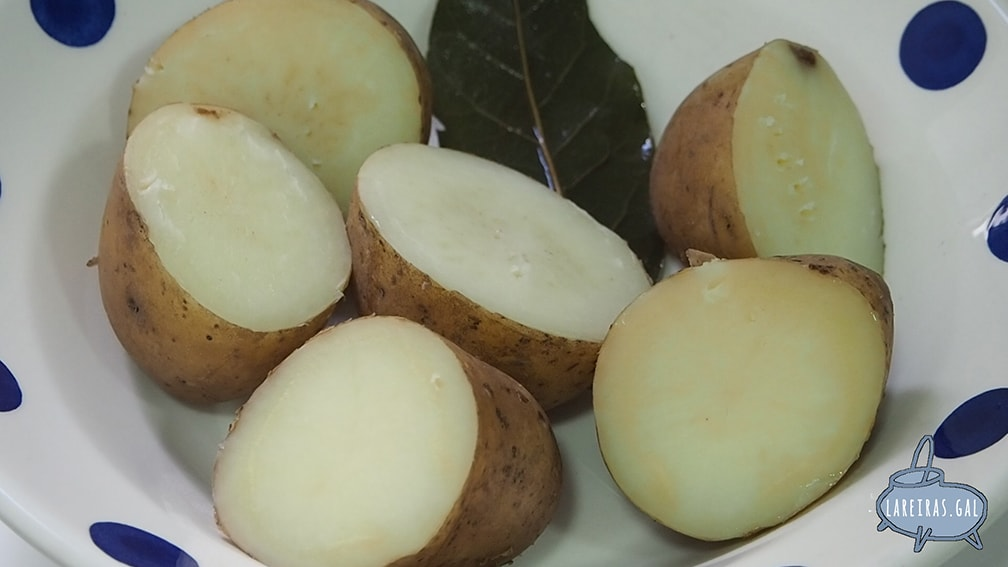boiled potatoes: (118, 10, 900, 556)
